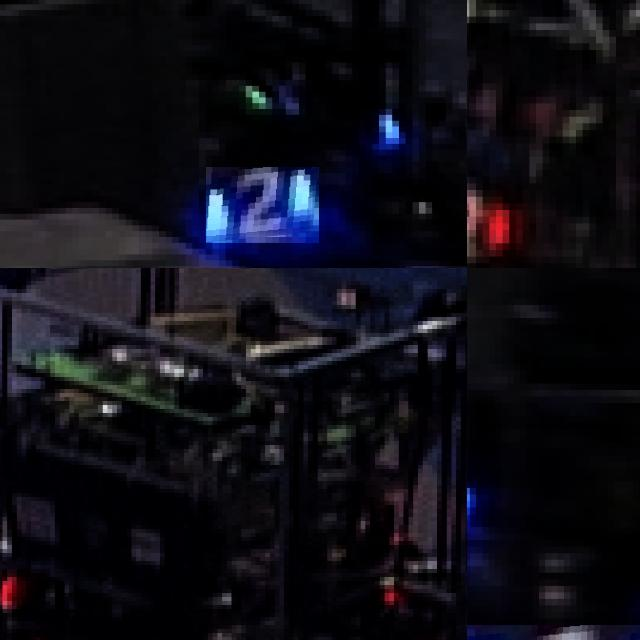B2: (206, 167, 319, 243)
R2: (467, 166, 526, 268)
